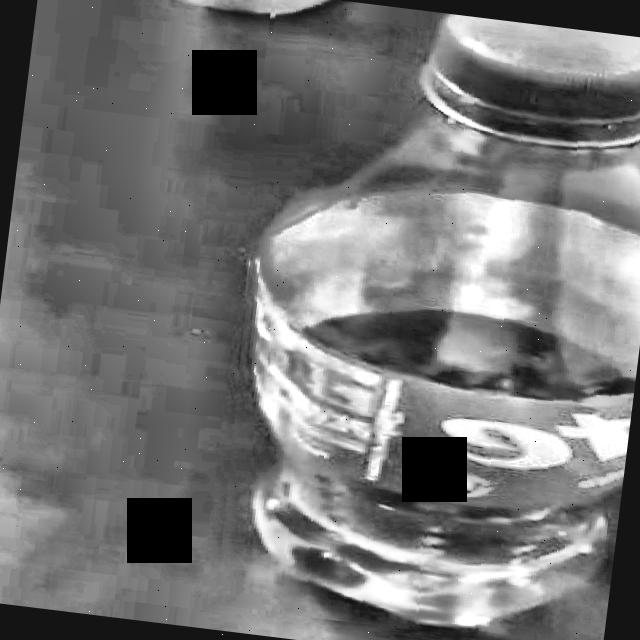bottle: (246, 13, 640, 634)
